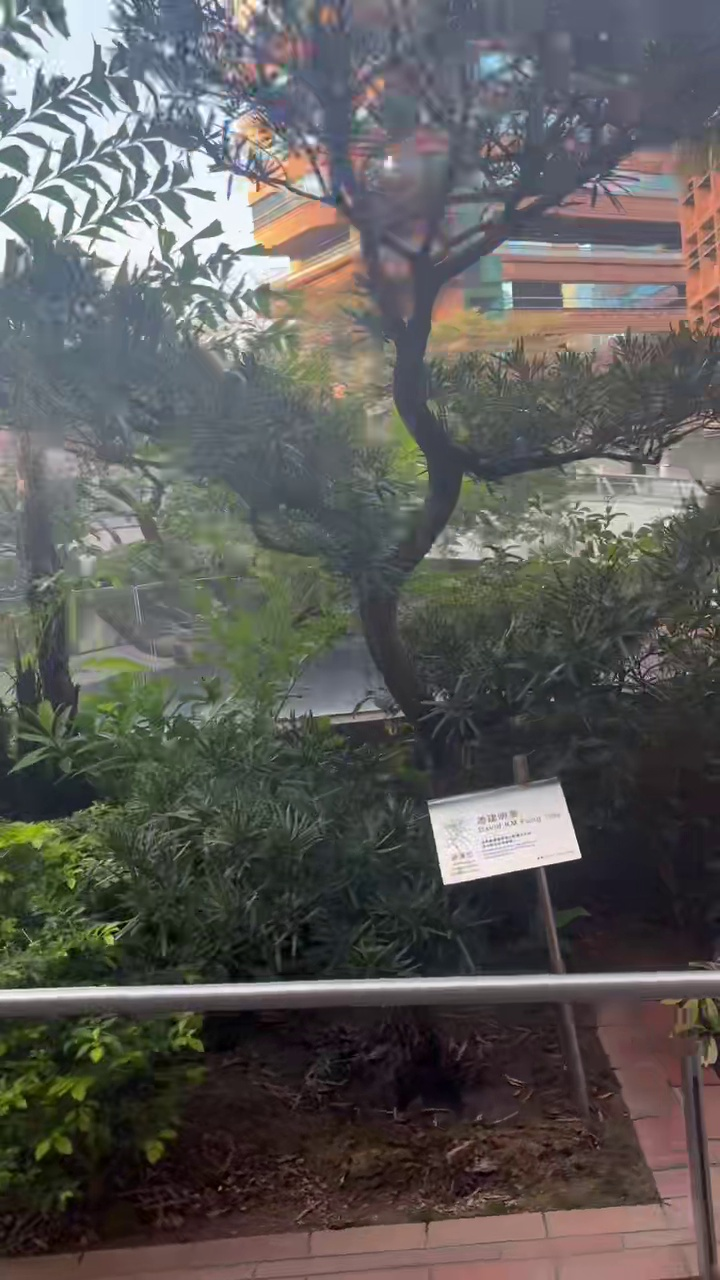Podocarpus macrophyllus: (124, 0, 719, 737)
